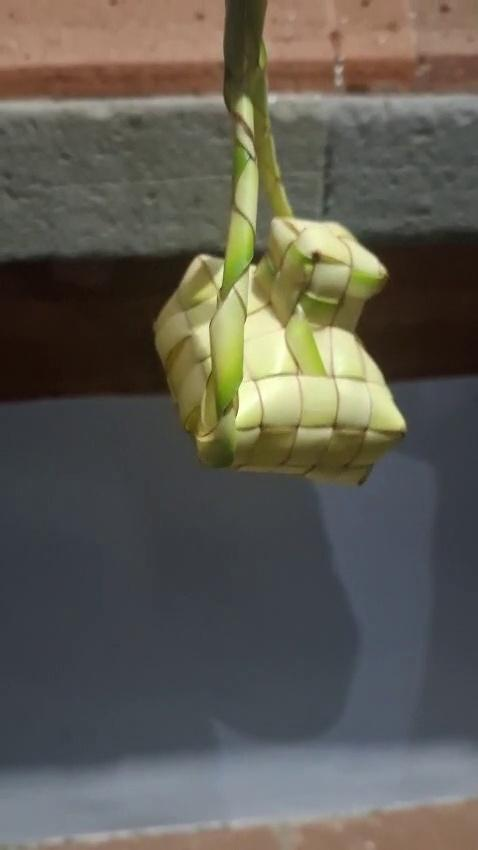Tipat Gong: (146, 2, 407, 490)
